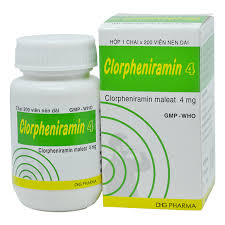Clorpheniramin: (102, 55, 183, 81), (19, 117, 85, 142)
